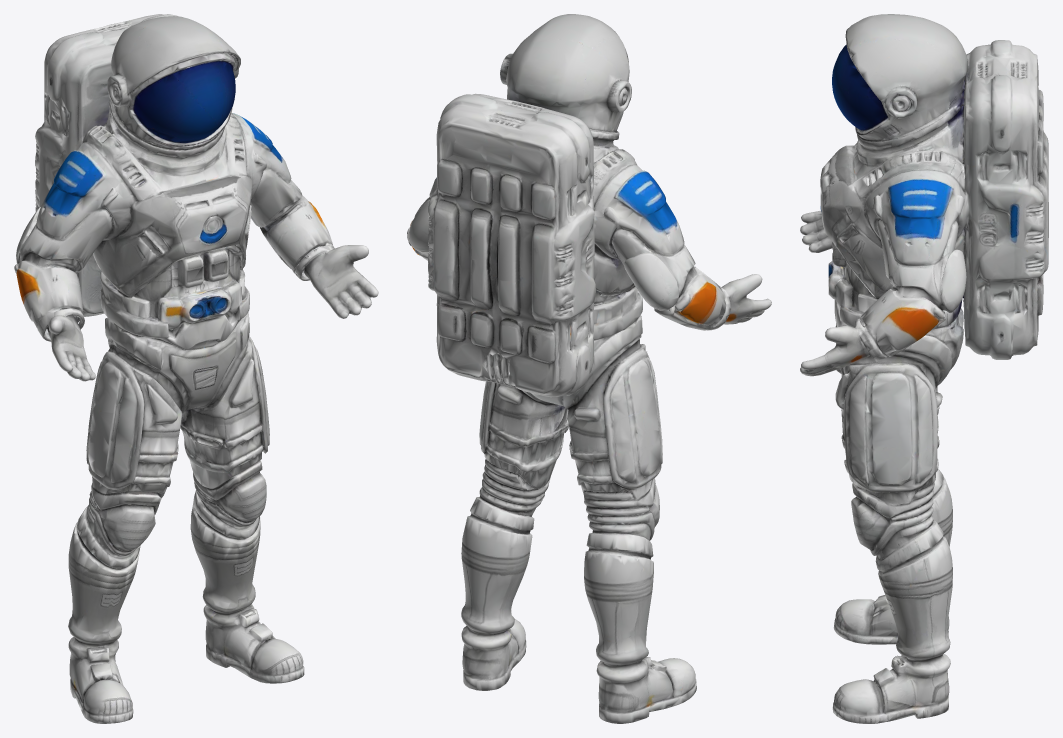
The model's file is astronaut.glb.
3 renders of one model, left to right at view 1: azimuth 30°, elevation 25°; view 2: azimuth 150°, elevation 25°; view 3: azimuth 270°, elevation 25°, orthographic.
Parts seen in each view (by area): view 1: Mesh_0_Material.001_0; view 2: Mesh_0_Material.001_0; view 3: Mesh_0_Material.001_0.
Boxes of the visible parts, bbox=[...] form: Mesh_0_Material.001_0: bbox=[14, 14, 378, 723]; Mesh_0_Material.001_0: bbox=[407, 14, 771, 723]; Mesh_0_Material.001_0: bbox=[800, 14, 1048, 723].
Size of the model in its own units: 0.9558 by 1.9 by 0.6548.
1 material, 1 textured.
